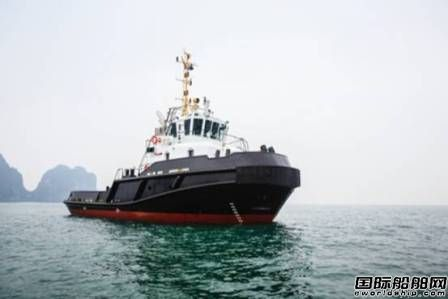otherboat: (59, 49, 306, 227)
